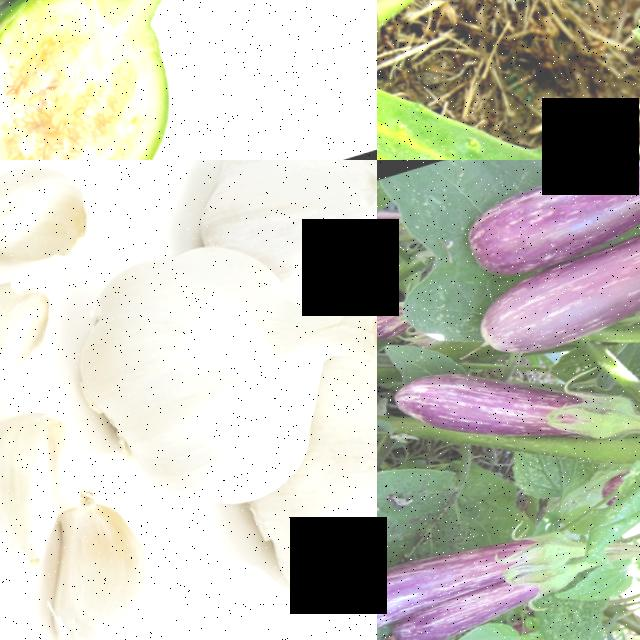cucumber: (377, 0, 640, 160)
eggplant: (383, 327, 637, 498), (465, 189, 640, 368), (453, 160, 640, 289), (377, 516, 576, 634), (377, 567, 578, 640)
garlic: (58, 224, 347, 544), (228, 160, 377, 343), (287, 356, 377, 632), (19, 493, 167, 640), (0, 400, 90, 555), (0, 160, 98, 286), (0, 268, 65, 414)
